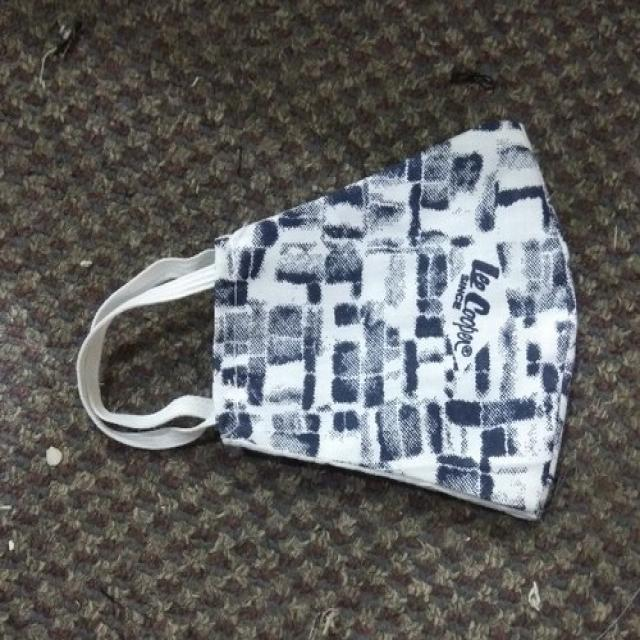non-organic waste: (73, 117, 571, 527)
